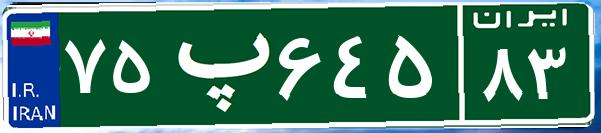3: (525, 38, 570, 115)
4: (330, 28, 385, 110)
5: (385, 28, 445, 110), (110, 28, 158, 105)
6: (273, 28, 330, 110)
7: (57, 26, 110, 107)
8: (475, 38, 525, 113)
پ: (158, 15, 273, 115)
